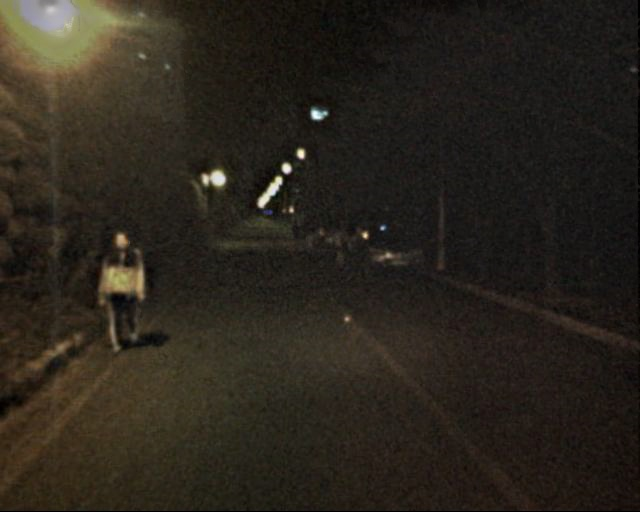person: (97, 225, 151, 357), (332, 225, 352, 274), (290, 221, 314, 250)
